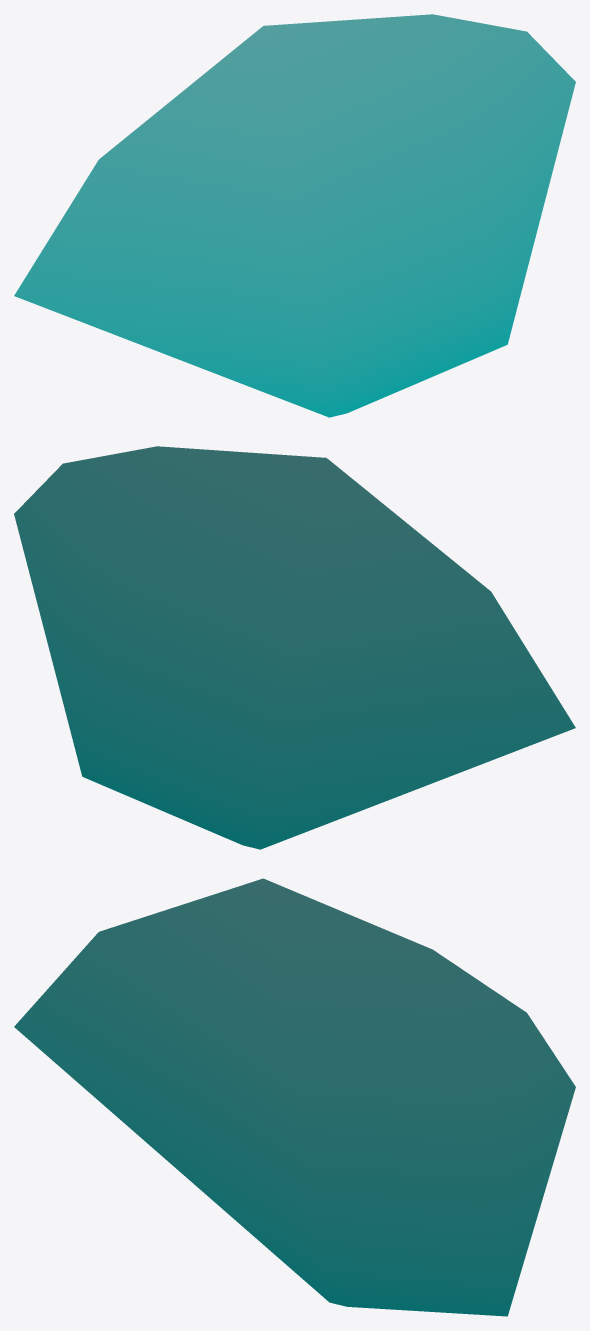
File: Flat_Leaf_Parsley_umkkeiaia_Low_umkkeiaia_VarA_LOD2.fbx
3 views of the same model, one above another, from view 1: azimuth 30°, elevation 25°; view 2: azimuth 150°, elevation 25°; view 3: azimuth 330°, elevation 25° (orthographic).
Parts seen in each view (by area): view 1: _cg8i_VarA_LOD5; view 2: _cg8i_VarA_LOD5; view 3: _cg8i_VarA_LOD5.
Boxes of the visible parts, x1,y1,x2,y2 form: _cg8i_VarA_LOD5: (14, 14, 575, 417); _cg8i_VarA_LOD5: (14, 446, 575, 849); _cg8i_VarA_LOD5: (14, 878, 575, 1316).
Bounding box in the file's own units: 64.65 × 44.85 × 0.
